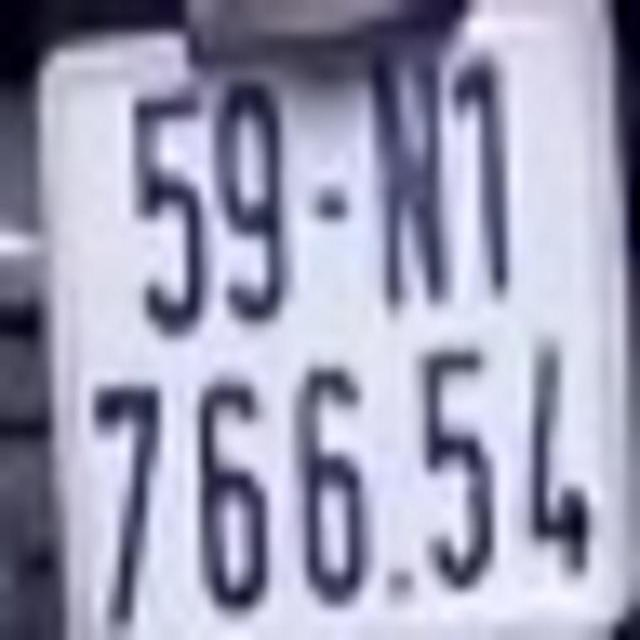1: (465, 72, 515, 282)
4: (528, 359, 595, 570)
5: (127, 96, 212, 333), (428, 357, 502, 578)
6: (197, 382, 277, 612), (300, 368, 367, 593)
7: (86, 384, 156, 622)
9: (220, 96, 282, 323)
N: (374, 71, 446, 305)
